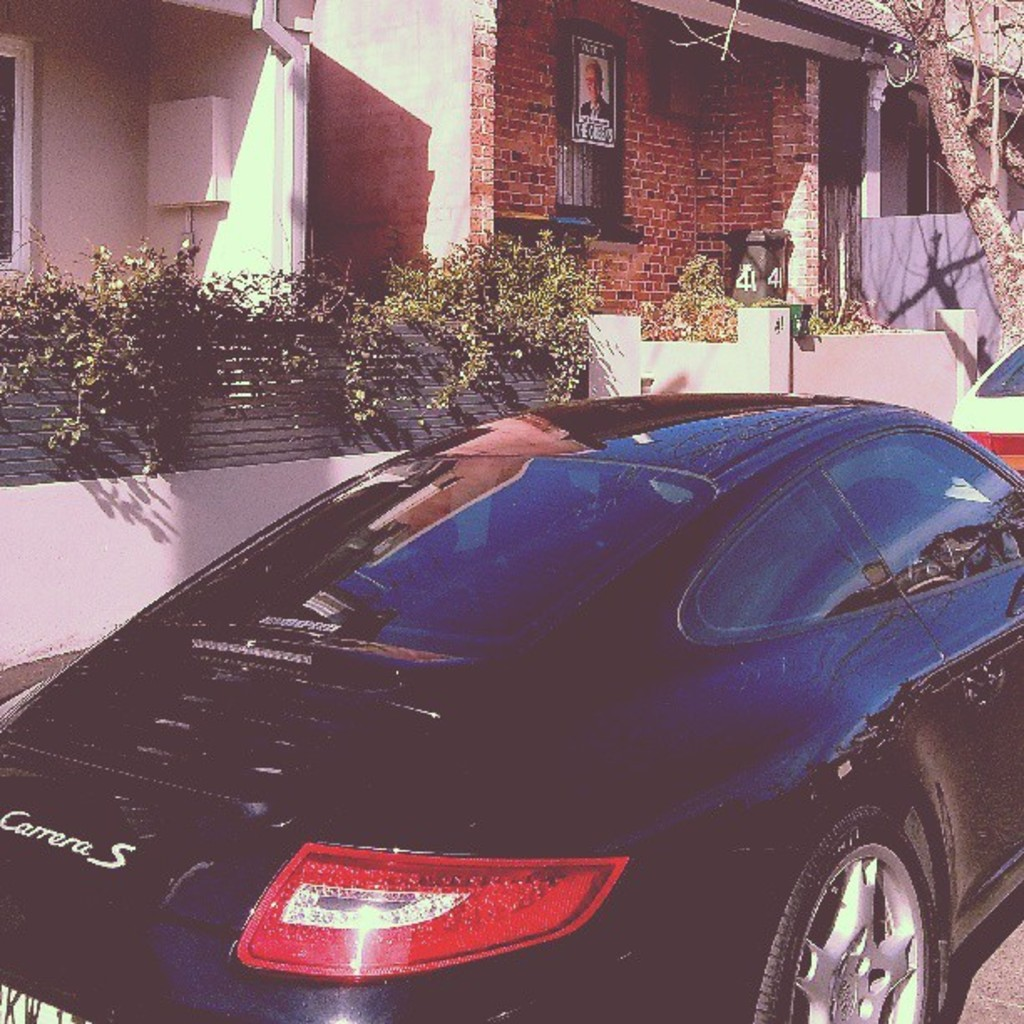Car: (33, 354, 1024, 988), (953, 348, 1022, 480)
